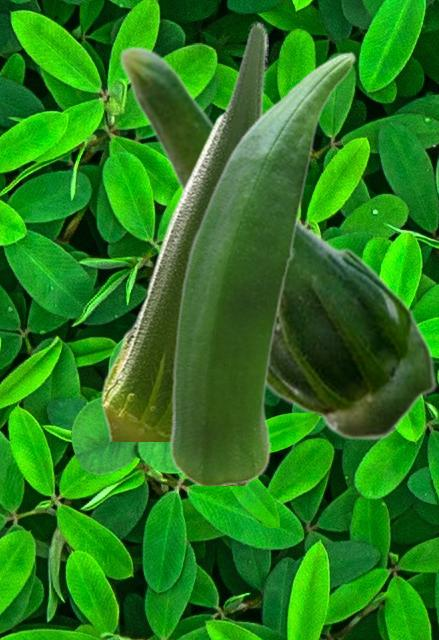okra: (118, 45, 436, 440), (168, 51, 355, 484), (100, 20, 267, 440)
